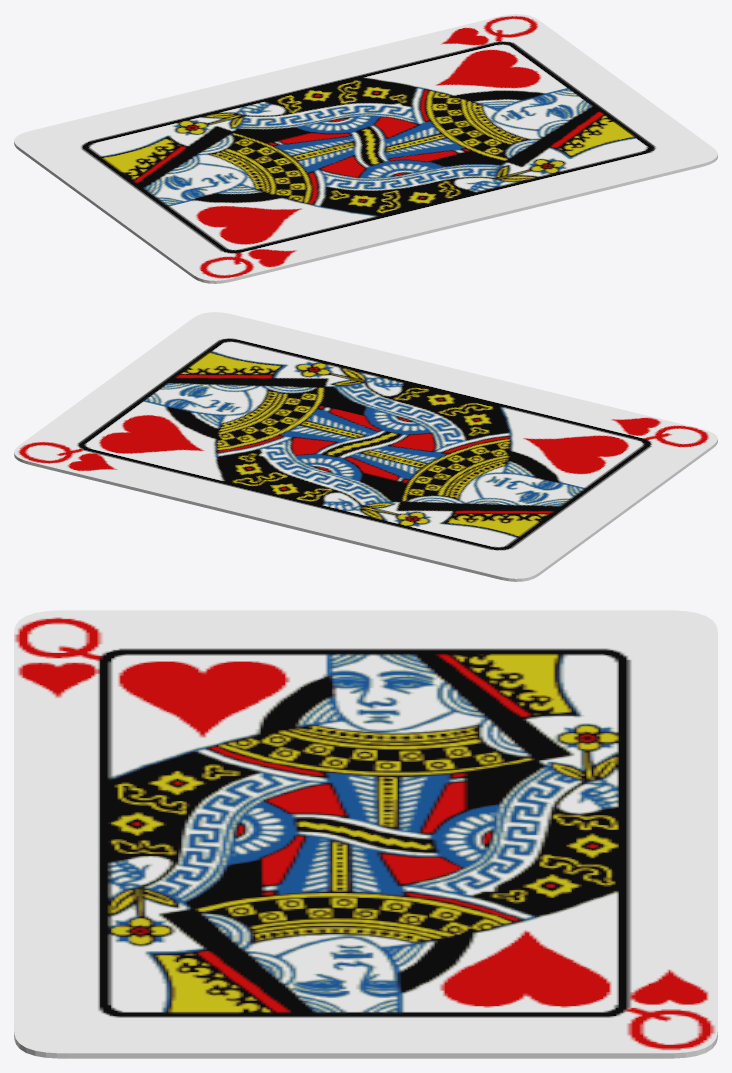
Rendered from queen_of_hearts.gltf.
3 renders of one model, top to bottom at view 1: azimuth 30°, elevation 25°; view 2: azimuth 150°, elevation 25°; view 3: azimuth 270°, elevation 25°, orthographic. The views are drawn at different scales.
Parts seen in each view (by area): view 1: Plane; view 2: Plane; view 3: Plane.
Boxes of the visible parts, bbox=[...] form: Plane: bbox=[14, 14, 717, 283]; Plane: bbox=[14, 312, 717, 581]; Plane: bbox=[14, 610, 717, 1058].
Bounding box in the file's own units: 0.09 × 0.0005 × 0.0605.
1 material, 1 textured.
